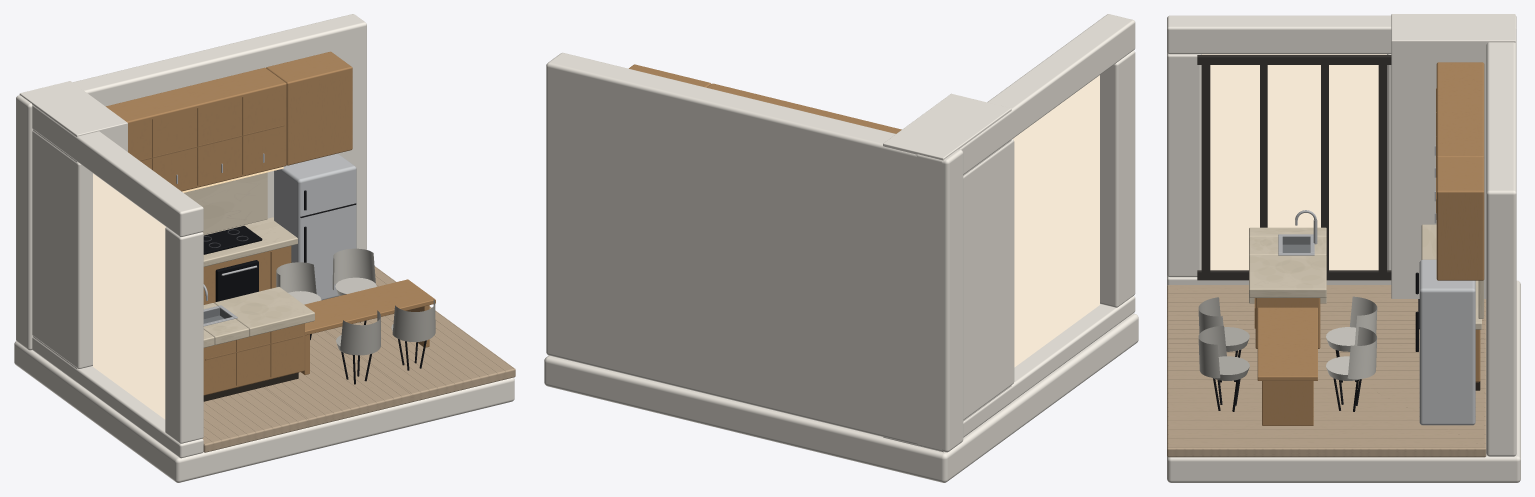
The model's file is kitchen.glb.
The picture shows the model from 3 angles, left to right: view 1: azimuth 30°, elevation 25°; view 2: azimuth 150°, elevation 25°; view 3: azimuth 270°, elevation 25°; orthographic projection. The views are drawn at different scales.
Parts seen in each view (by area): view 1: IsoKitchen, Fridge, WindowPane, Chairs, Appliances; view 2: IsoKitchen, WindowPane; view 3: IsoKitchen, WindowPane, Fridge, Chairs.
Part boxes in pixels (box(x1,y1,x2,y2)): IsoKitchen: box(14, 14, 515, 482); Fridge: box(266, 51, 356, 300); WindowPane: box(93, 173, 165, 419); Chairs: box(276, 248, 435, 384); Appliances: box(203, 225, 262, 301); IsoKitchen: box(544, 14, 1138, 482); WindowPane: box(1013, 75, 1099, 367); IsoKitchen: box(1167, 14, 1520, 482); WindowPane: box(1201, 54, 1386, 270); Fridge: box(1415, 157, 1484, 425); Chairs: box(1198, 296, 1377, 411).
Bounding box in the file's own units: 4.9 × 3.76 × 4.1.
Materials: 17 (3 with a texture image).
